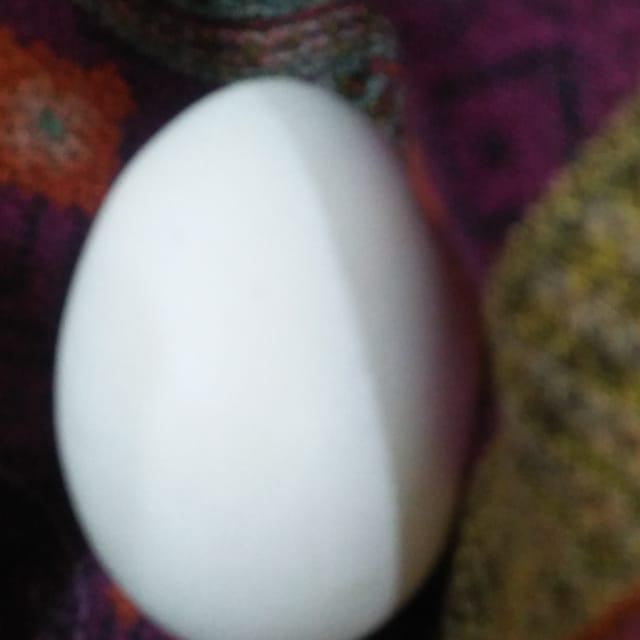egg: (48, 70, 484, 640)
